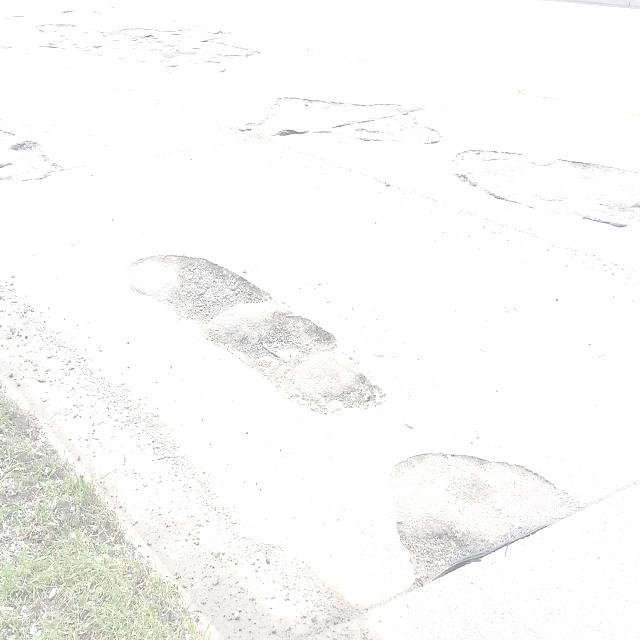Pothole: (120, 245, 386, 424), (391, 448, 584, 586), (445, 139, 640, 229), (32, 17, 260, 81), (235, 93, 444, 145)
